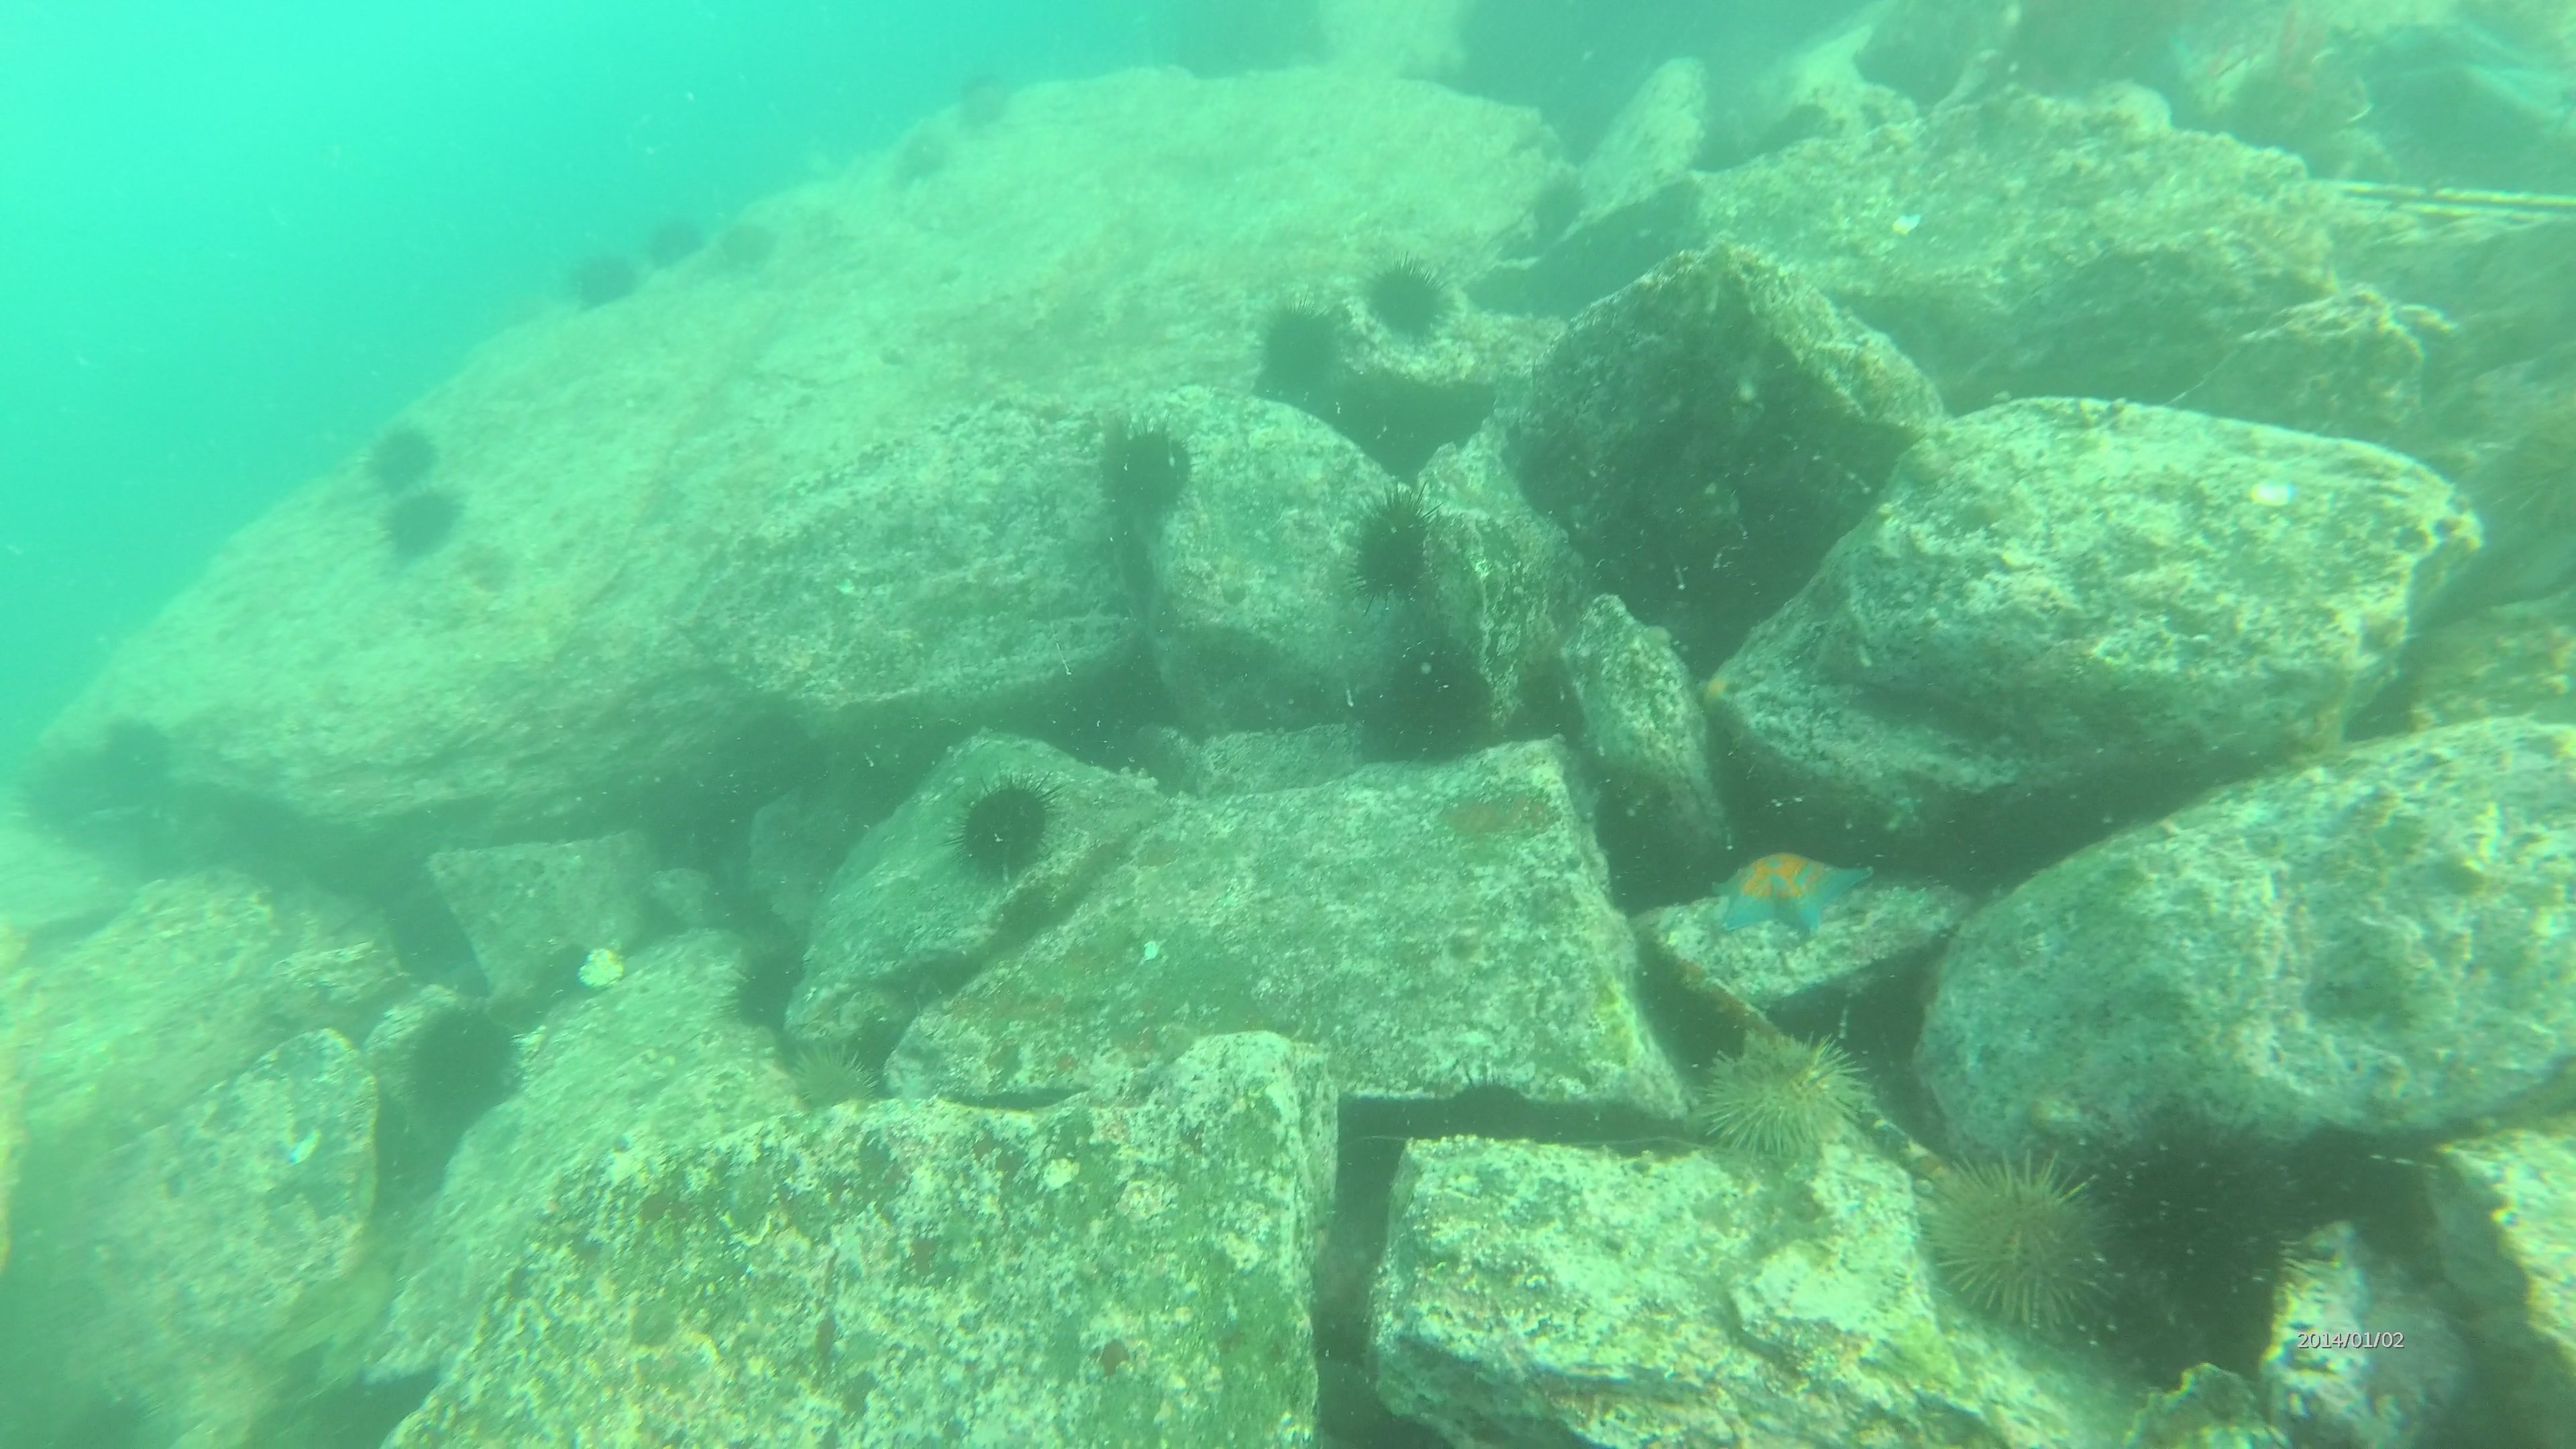echinus: (2097, 1118, 2302, 1313), (1920, 1148, 2118, 1338), (1693, 1024, 1877, 1171), (1353, 639, 1499, 771), (398, 998, 525, 1131), (2482, 395, 2576, 561), (945, 771, 1063, 888), (1088, 412, 1200, 525), (1343, 488, 1444, 605), (1247, 295, 1350, 409), (771, 1035, 886, 1125), (85, 709, 184, 814), (720, 936, 812, 1039), (1359, 253, 1456, 349), (372, 474, 464, 559), (359, 416, 444, 497), (559, 242, 644, 317), (945, 64, 1024, 138), (886, 113, 959, 193), (713, 209, 782, 281), (640, 209, 708, 274)
starfish: (1702, 837, 1874, 947)
